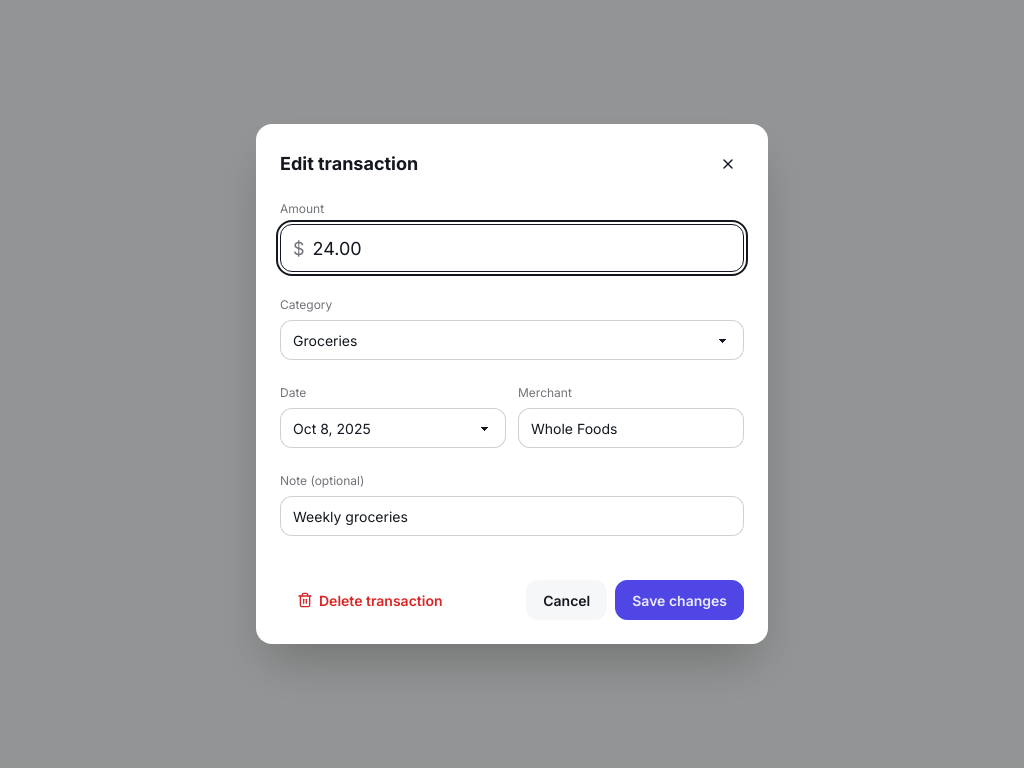
Test: AC4: validation, unchanged from Add transaction › rejects a cleared amount with the same message the Add modal uses
This screenshot has width=1024, height=768.
Clear the field labelled "Amount" at (522, 248), box top-left (313, 225), bottom-right (731, 271)
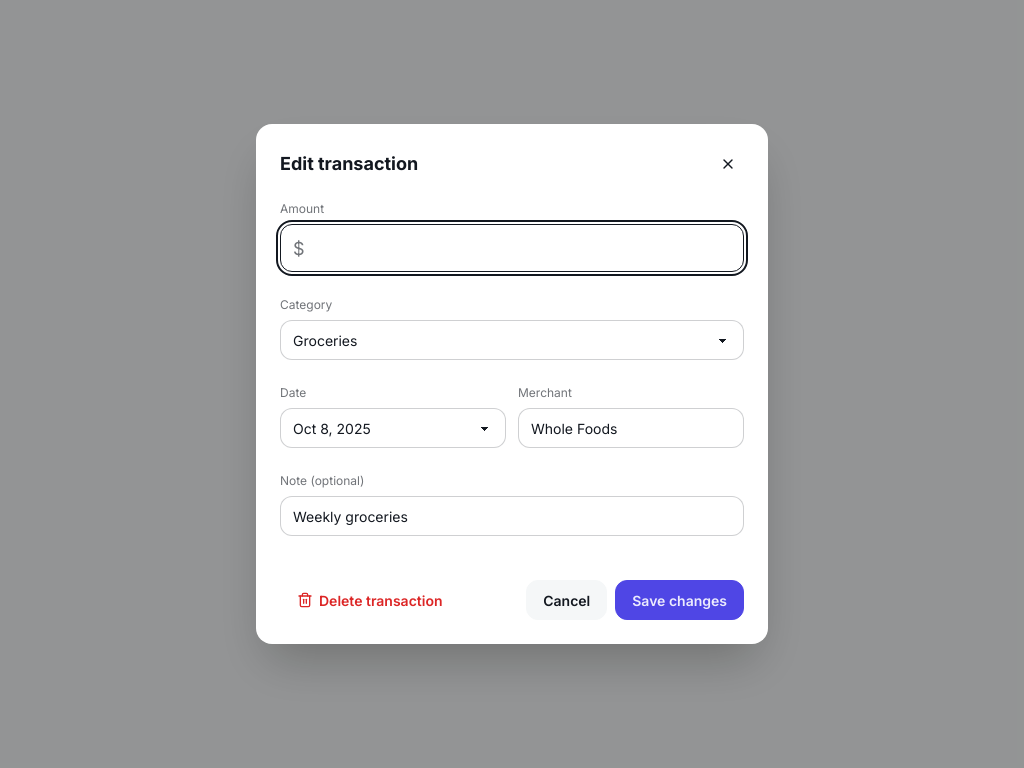
Click the button "Save changes" at (680, 600), box top-left (615, 580), bottom-right (744, 620)
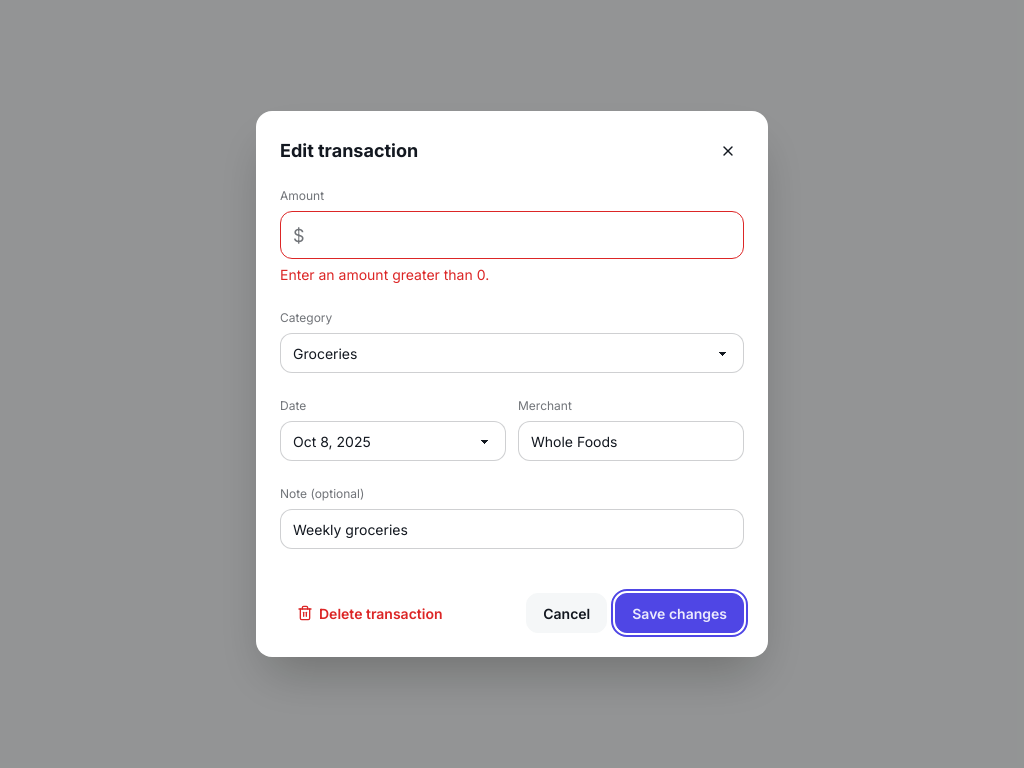
Expected: the text "Enter an amount greater than 0." is shown, top-left (280, 266), bottom-right (489, 283)
